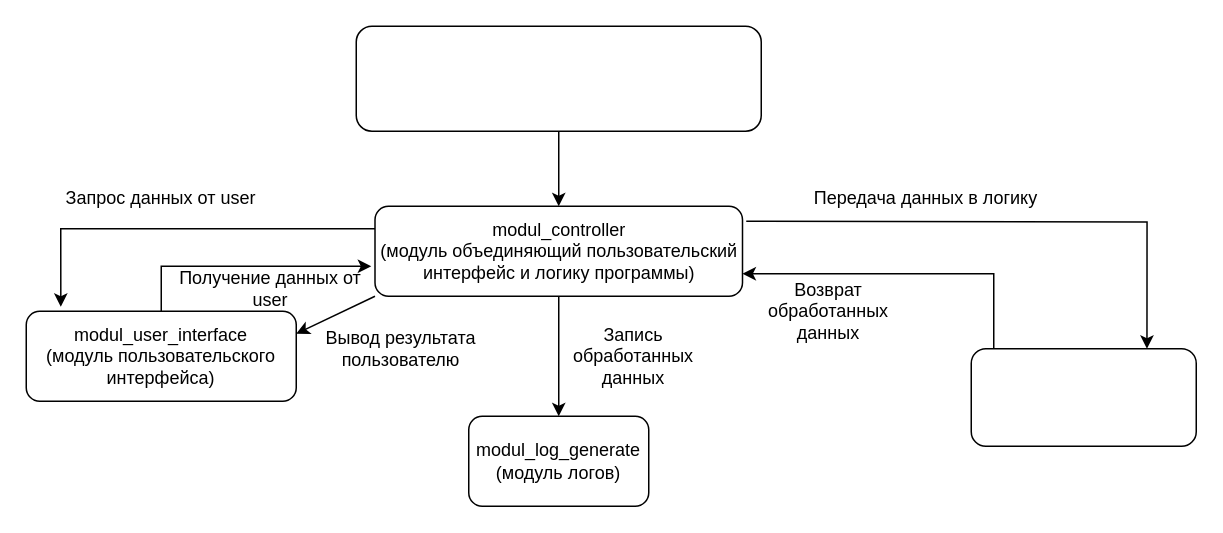
Some shapes in this 1223 by 533 pixel diagram are drawn without their labels. Each missing label, with the box of its shape:
main (главный модуль - точка входа программы): (355, 25, 761, 131)
modul_working_data: (970, 347, 1196, 446)
